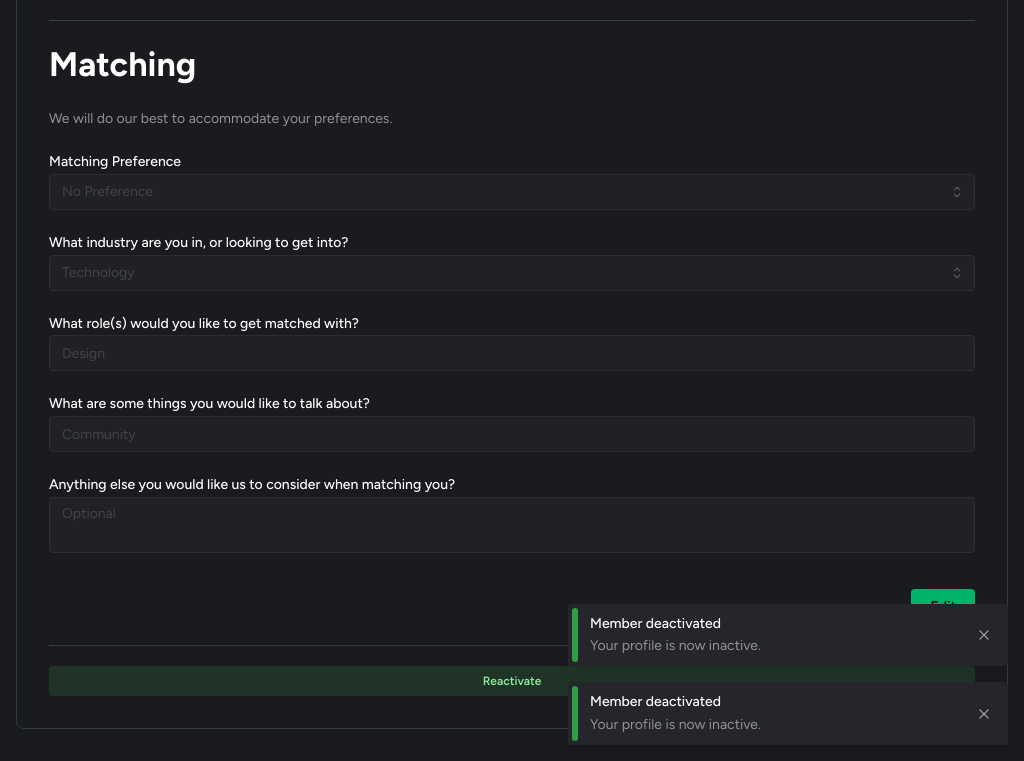
reactivating skips the reason prompt, sends only the status, and flips the button back
(page scrolled)
Click the button "Reactivate".
click(512, 681)  # box [49,666,975,696]
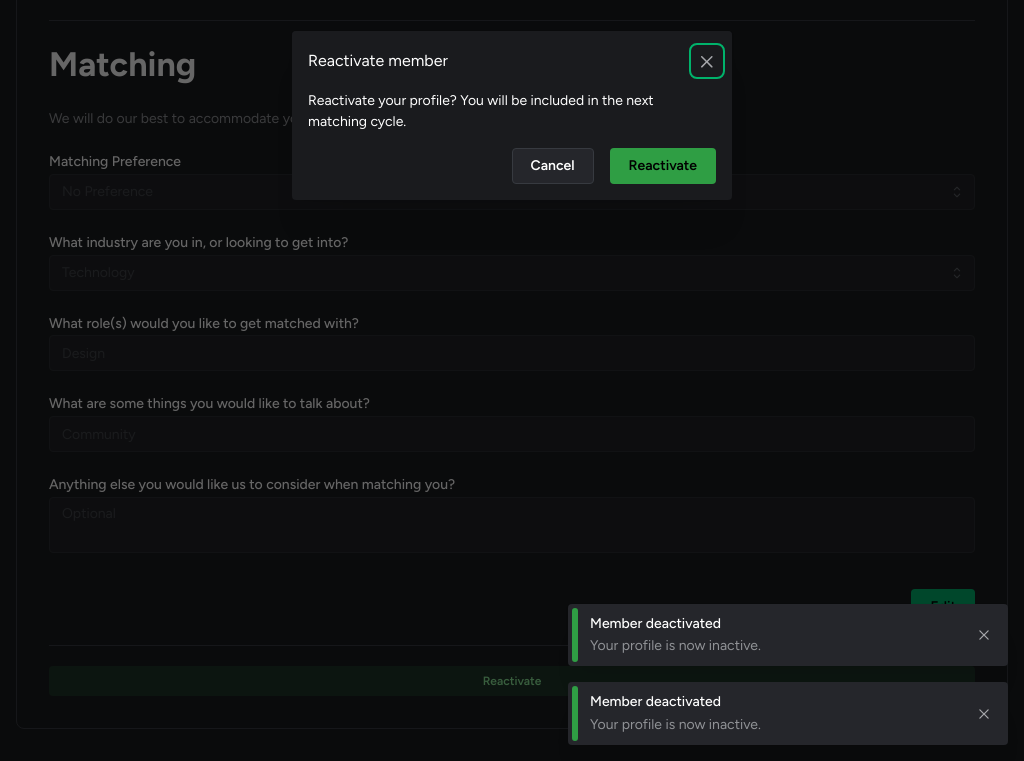
Expected: the heading "Reactivate member" is shown, [308,53,448,69]
Click the button "Reactivate".
click(663, 166)  # box [610,148,716,184]
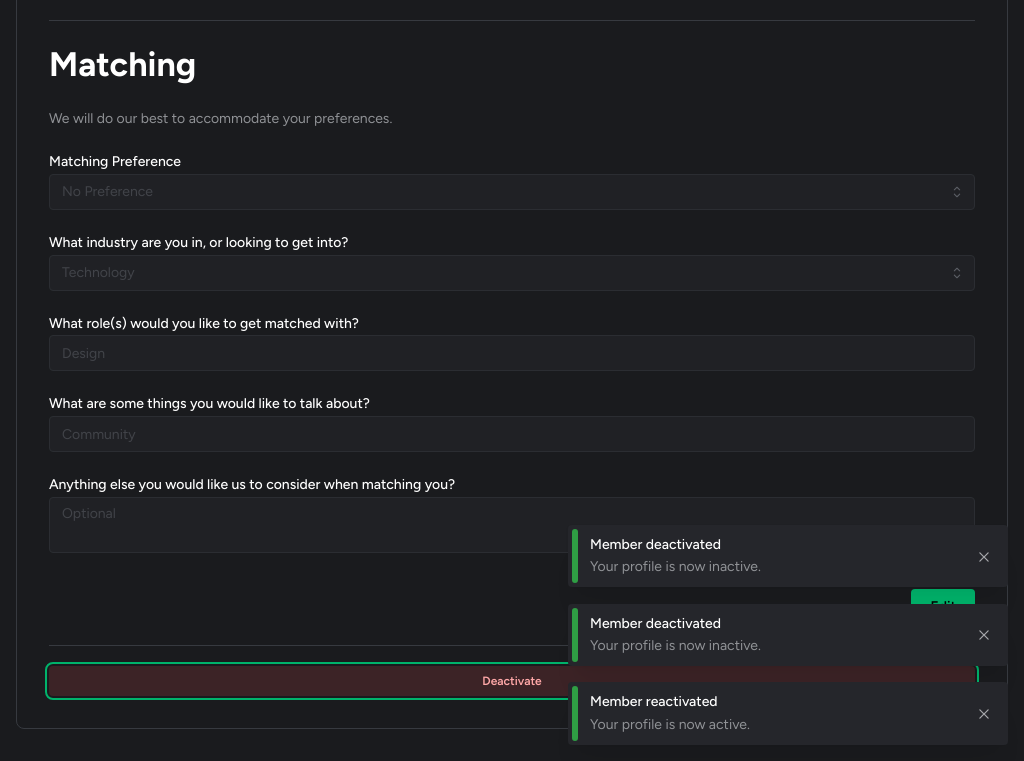
Expected: the button "Deactivate" is shown, [49,666,975,696]
Expected: the text "Your profile is now active." is shown, [590,716,750,733]
